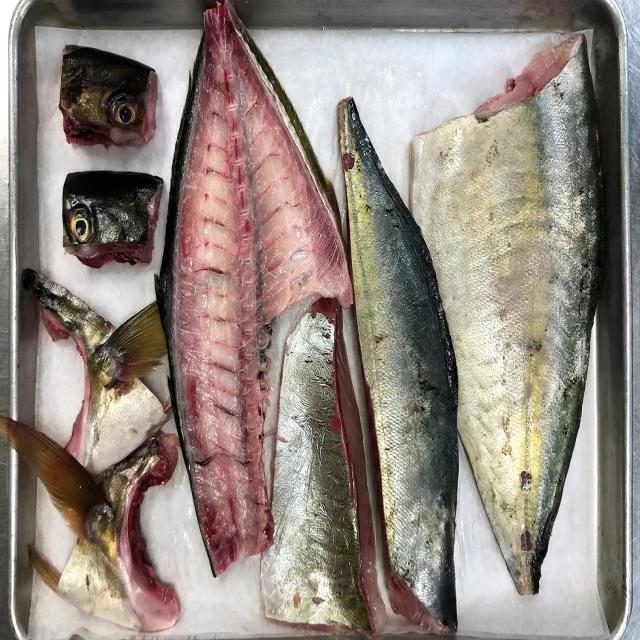Mackerel: (156, 4, 352, 574), (411, 34, 604, 594), (338, 98, 459, 631), (261, 298, 385, 634), (0, 416, 180, 631), (22, 268, 171, 475), (59, 45, 158, 148), (62, 171, 164, 268)
